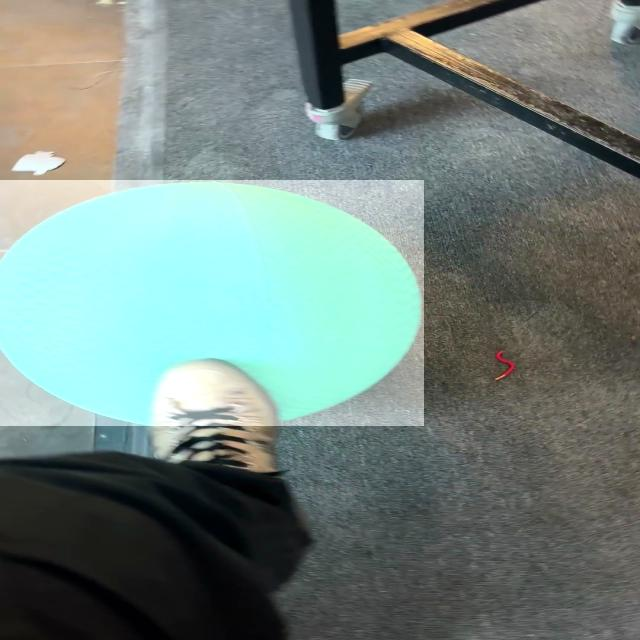Algae: (0, 180, 424, 427)
